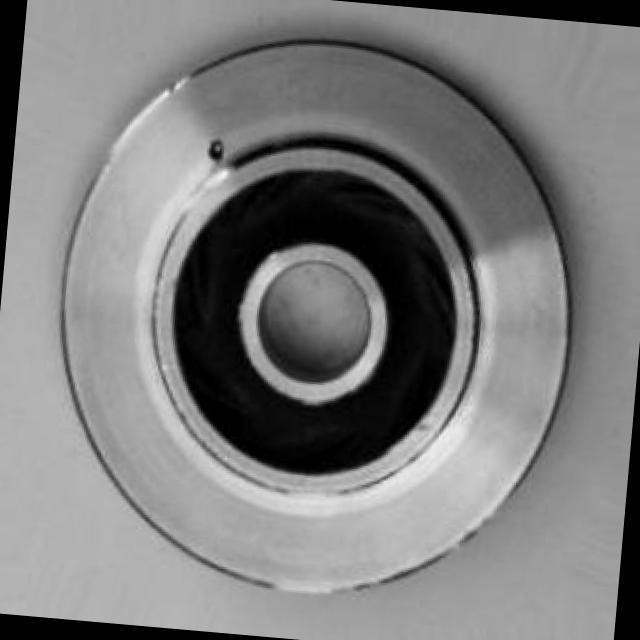Defect: (198, 133, 232, 176)
